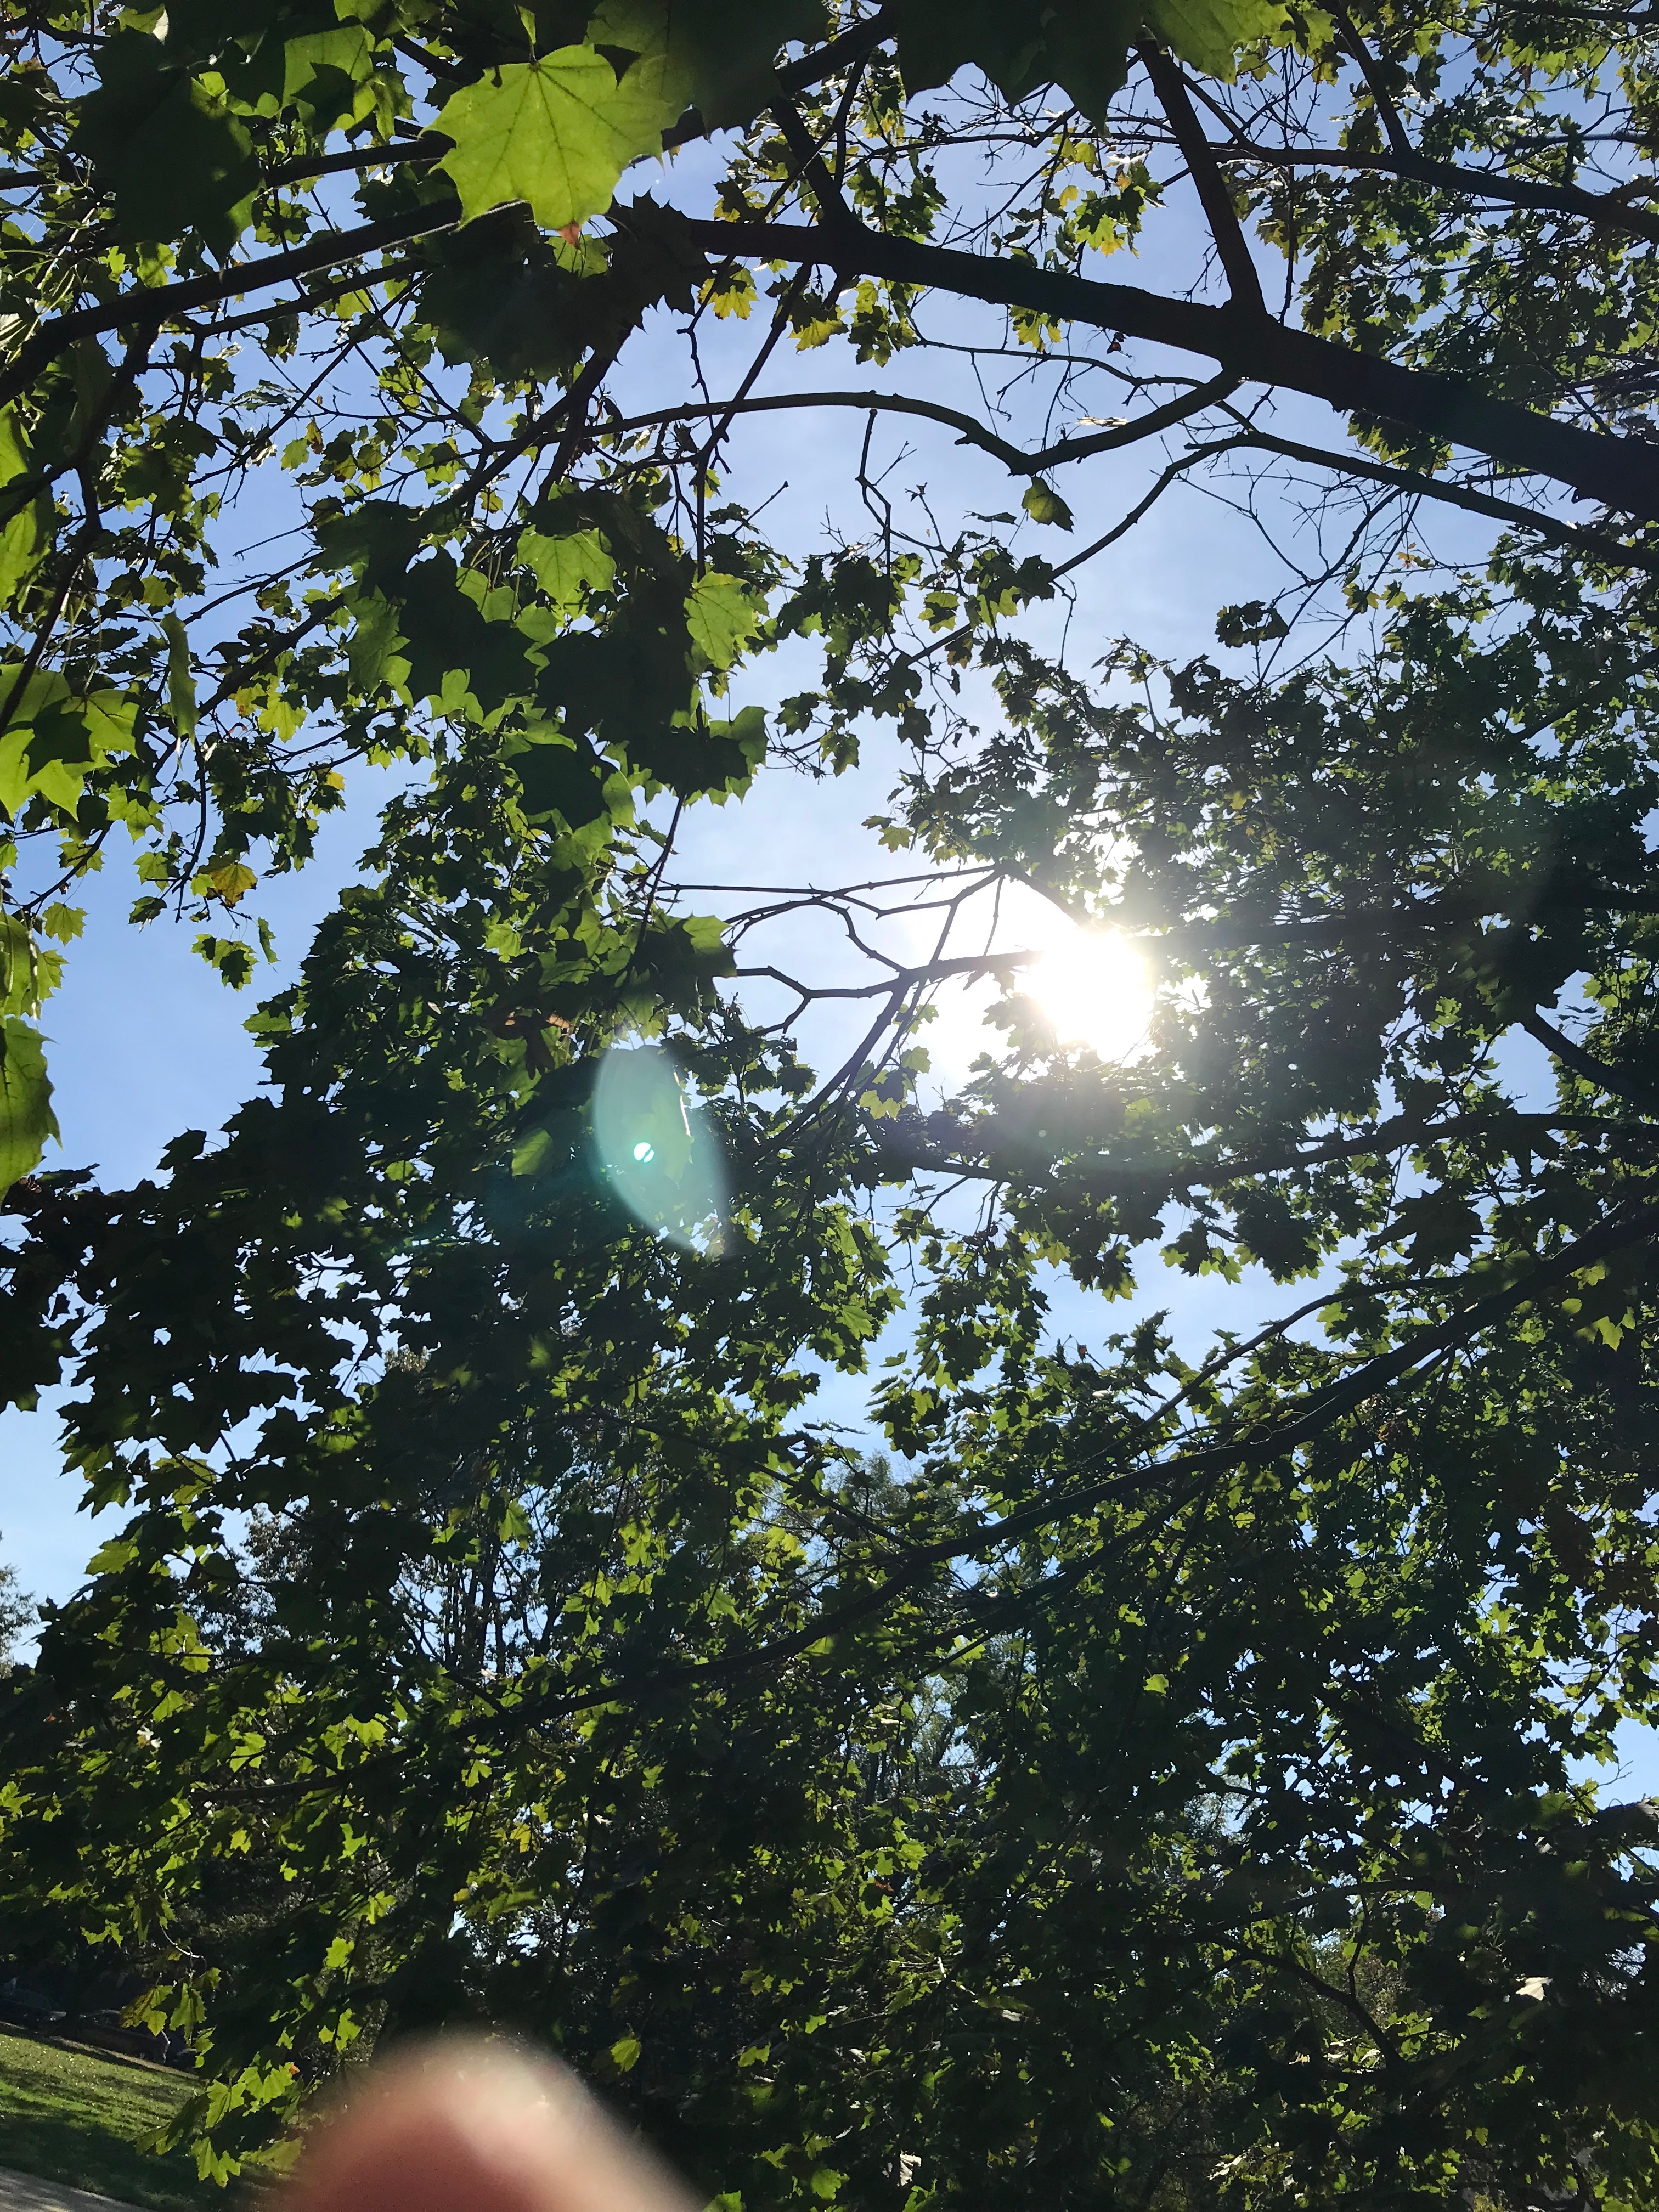flare: (633, 1141, 657, 1163)
